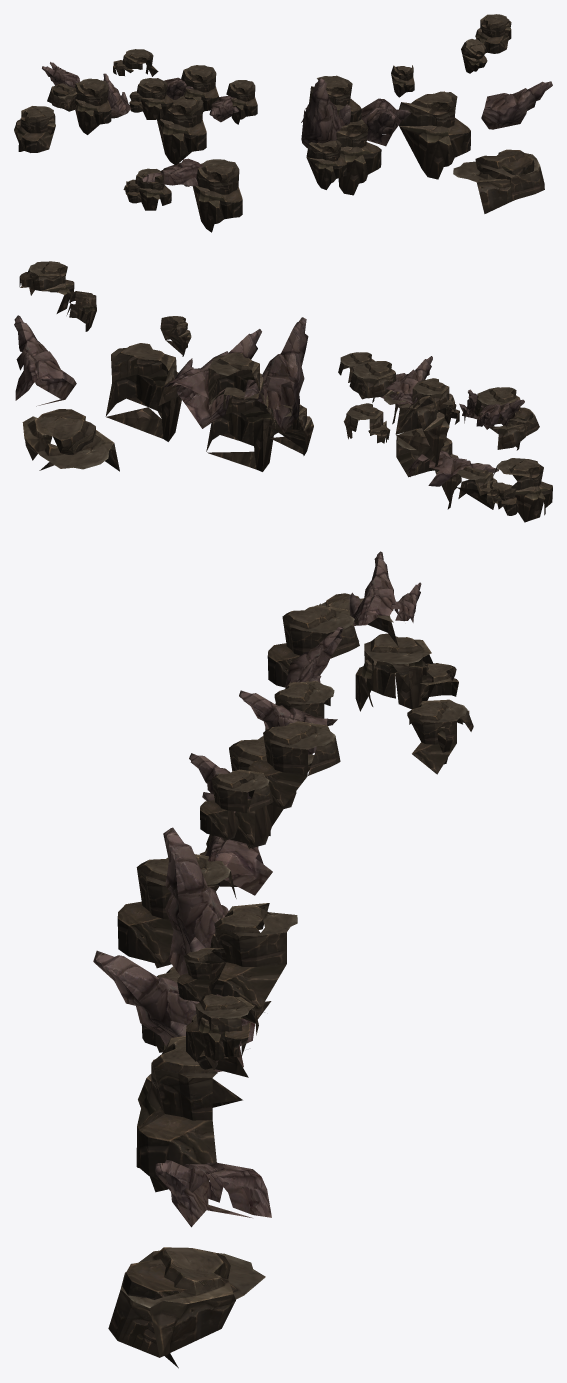
Rendered from zhucheng002.fbx.
3 renders of one model, top to bottom at view 1: azimuth 30°, elevation 25°; view 2: azimuth 150°, elevation 25°; view 3: azimuth 270°, elevation 25°, orthographic. The views are drawn at different scales.
Visible parts, largest first — view 1: Z_zhucheng002; view 2: Z_zhucheng002; view 3: Z_zhucheng002.
Part boxes in pixels (<box>): Z_zhucheng002: <box>14,14,552,232</box>; Z_zhucheng002: <box>14,261,552,522</box>; Z_zhucheng002: <box>93,551,473,1368</box>.
Size of the model in its own units: 69.29 by 27.6 by 24.02.
